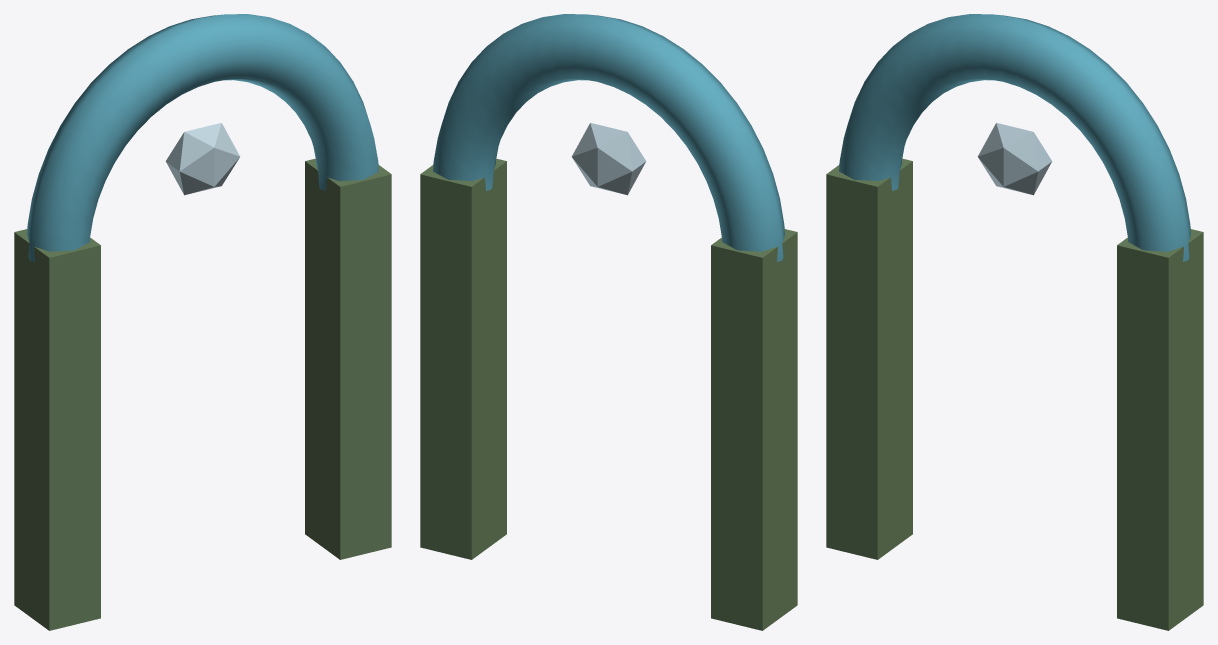
The model's file is gateway.glb.
3 views of the same model, side by side, from view 1: azimuth 30°, elevation 25°; view 2: azimuth 150°, elevation 25°; view 3: azimuth 330°, elevation 25° (orthographic).
Visible parts, largest first — view 1: pillar_-1, pillar_1, arch, keystone; view 2: pillar_-1, pillar_1, arch, keystone; view 3: pillar_1, pillar_-1, arch, keystone.
Part boxes in pixels (x1,y1,x2,y2): pillar_-1: (14, 229, 100, 630); pillar_1: (305, 158, 391, 559); arch: (27, 14, 378, 261); keystone: (165, 123, 240, 195); pillar_-1: (711, 229, 797, 630); pillar_1: (420, 158, 506, 559); arch: (433, 14, 784, 261); keystone: (571, 123, 646, 195); pillar_1: (1117, 229, 1203, 630); pillar_-1: (826, 158, 912, 559); arch: (839, 14, 1190, 261); keystone: (977, 123, 1052, 195).
Size of what is drawn, in the model's own units: 3.7 by 5.69 by 0.65.
